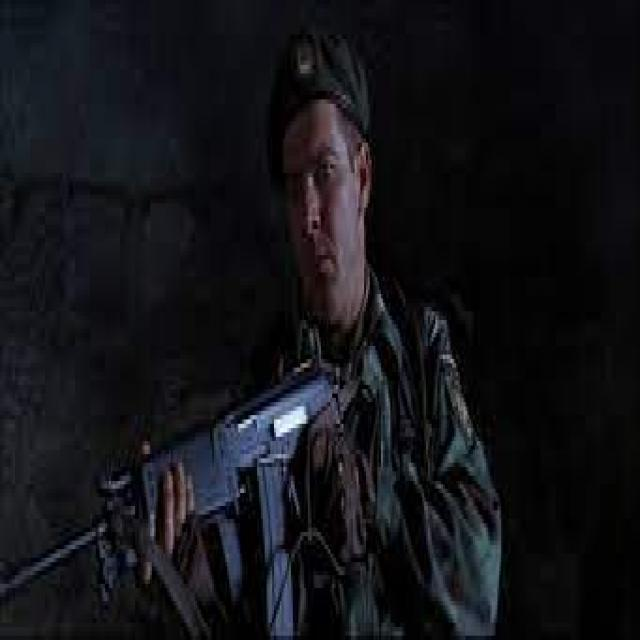weapon: (1, 322, 357, 640)
